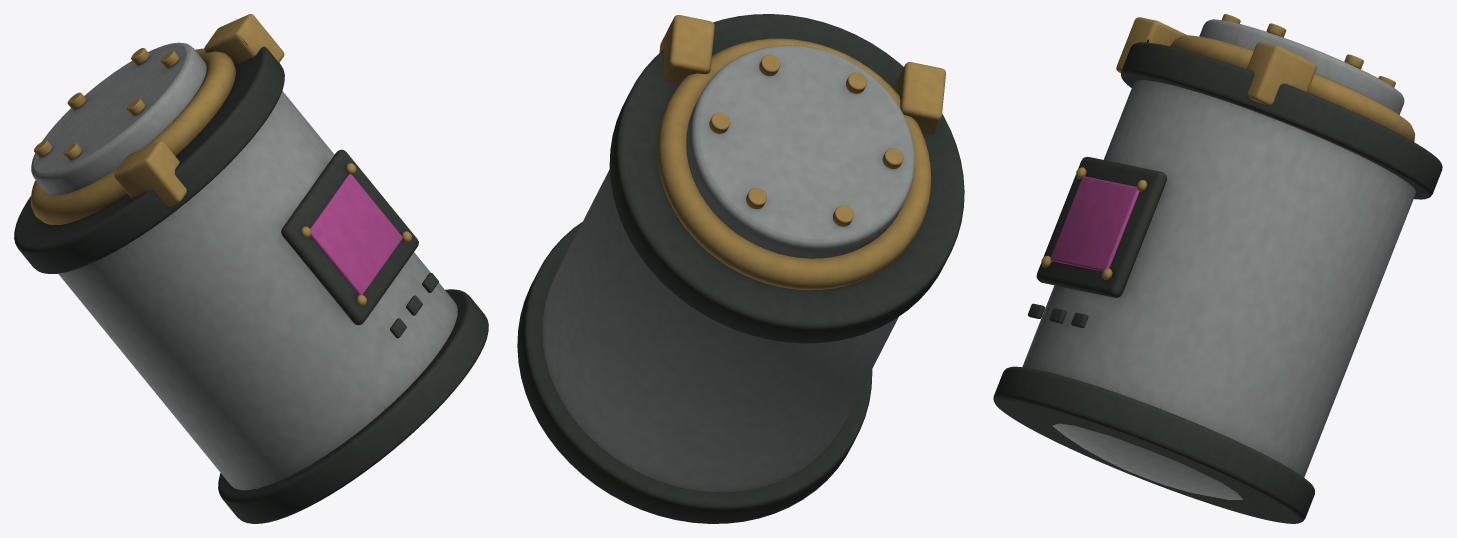
3 renders of one model, left to right at view 1: azimuth 30°, elevation 25°; view 2: azimuth 150°, elevation 25°; view 3: azimuth 270°, elevation 25°, orthographic. The views are drawn at different scales.
Parts seen in each view (by area): view 1: Pressure shell; view 2: Pressure shell; view 3: Pressure shell.
Boxes of the visible parts, left/top/right/bottom form: Pressure shell: left=14, top=14, right=488, bottom=523; Pressure shell: left=517, top=14, right=964, bottom=523; Pressure shell: left=993, top=14, right=1442, bottom=523.
Size of the model in its own units: 1.2 by 1.33 by 1.13.
Materials: 1 (1 with a texture image).
